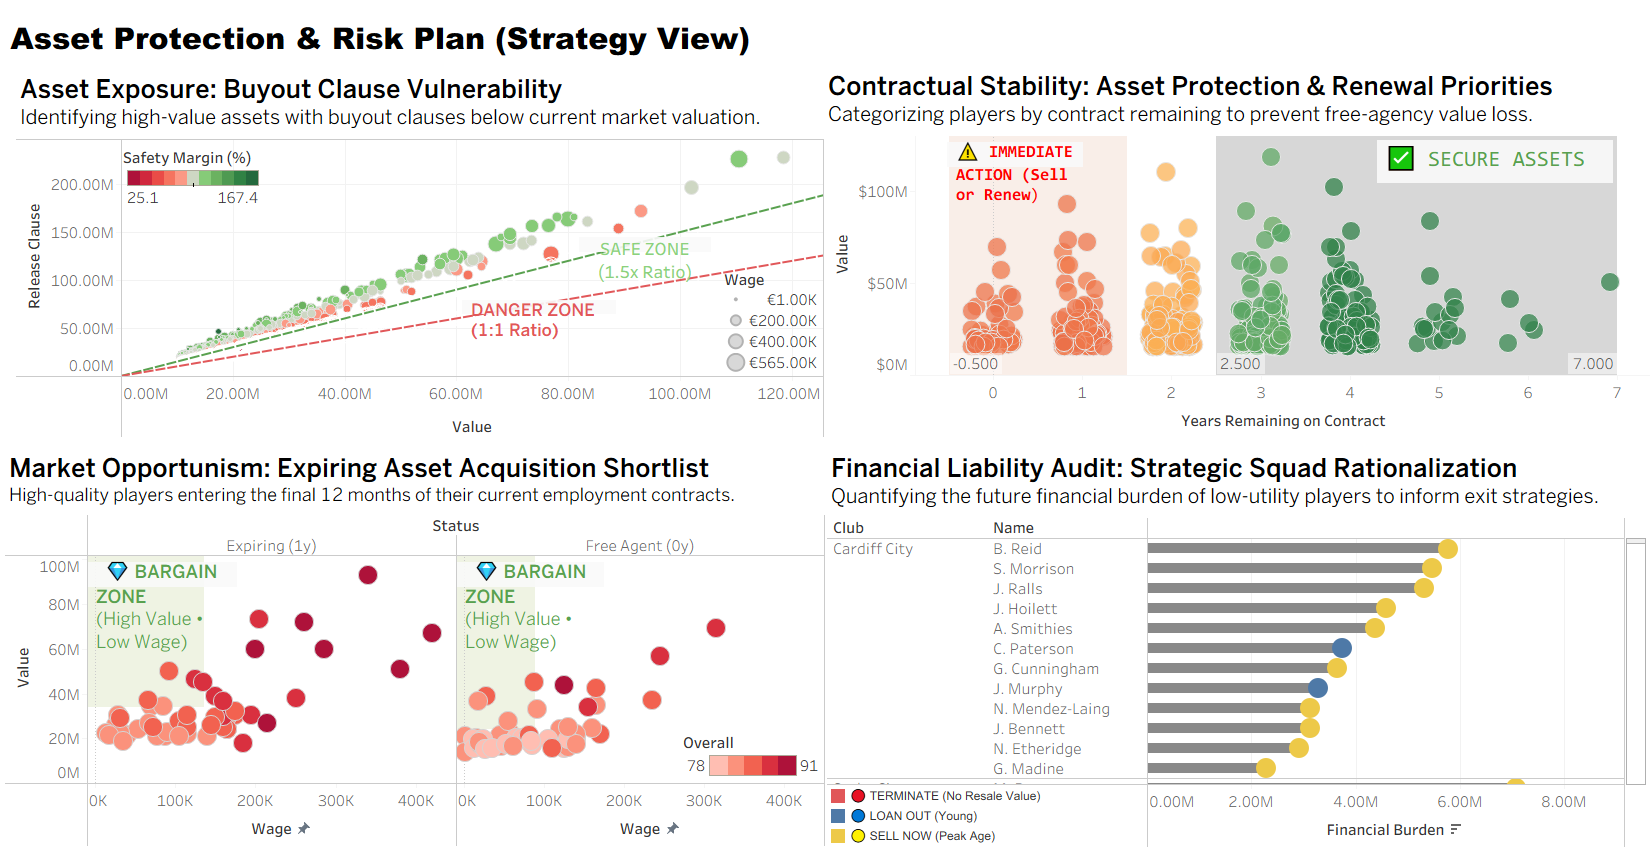

The page's visual inventory and layout, read from the dashboard file:
{"tool":"tableau","page":{"name":"Dashboard 4","canvas":[1650,850],"ordinal":3},"visuals":[{"type":"text","box":[6.6,9.6,1626.9,54.2]},{"type":"worksheet","title":"Sheet 13","mark":"Circle","rows":["Value"],"cols":["Plot_X"],"box":[824,65,828,373]},{"type":"worksheet","title":"Sheet 12","mark":"Circle","rows":["Release Clause"],"cols":["Value"],"box":[16,68,808,370]},{"type":"legend","title":"Sheet 12","param":"[federated.1f8431101hw87q1b8qc5m1e5blb5].[sum:Clause_Premium_Pct:qk]","box":[123,143,140,88]},{"type":"legend","title":"Sheet 12","param":"[federated.1f8431101hw87q1b8qc5m1e5blb5].[sum:Wage:qk]","box":[723,267,98,107]},{"type":"worksheet","title":"Sheet 14","mark":"Circle","rows":["Value"],"cols":["Status","Wage"],"box":[5,447,820,400]},{"type":"worksheet","title":"Sheet 15","mark":"Bar","rows":["Club","Name"],"cols":["Financial_Burden","Financial_Burden"],"box":[827,447,819,401]},{"type":"legend","title":"Sheet 14","param":"[federated.1sr6v2i0opbirx1fywx531h7k1nd].[sum:Overall:qk]","box":[683,728,140,88]}]}

Visuals, with their boxes in screenshot pixels (x1, y1, x2, y2), scaled from the page's 1650x850 canvas onto the 1650x850 screenshot:
text: box=[7, 10, 1634, 64]
"Sheet 13" worksheet (Circle marks): box=[824, 65, 1649, 438]
"Sheet 12" worksheet (Circle marks): box=[16, 68, 824, 438]
"Sheet 12" legend: box=[123, 143, 263, 231]
"Sheet 12" legend: box=[723, 267, 821, 374]
"Sheet 14" worksheet (Circle marks): box=[5, 447, 825, 847]
"Sheet 15" worksheet (Bar marks): box=[827, 447, 1646, 848]
"Sheet 14" legend: box=[683, 728, 823, 816]
